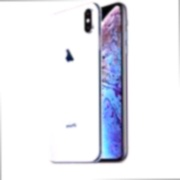iphone: (78, 2, 133, 163)
